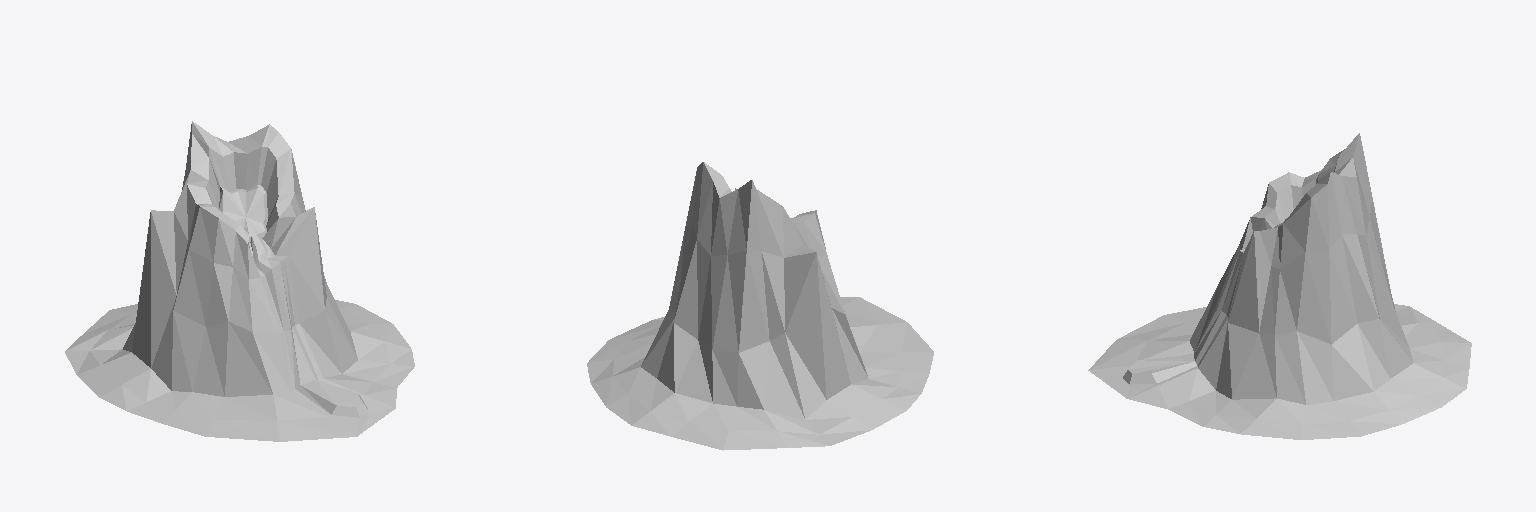
Rendered from 1230 Volcano.obj.
3 renders of one model, left to right at view 1: azimuth 30°, elevation 25°; view 2: azimuth 150°, elevation 25°; view 3: azimuth 270°, elevation 25°, orthographic.
Parts seen in each view (by area): view 1: Volcano; view 2: Volcano; view 3: Volcano.
Boxes of the visible parts, box(x1,y1,x2,y2) form: Volcano: box(65, 121, 414, 441); Volcano: box(587, 162, 933, 450); Volcano: box(1088, 133, 1471, 439).
Bounding box in the file's own units: 201 × 145 × 226.